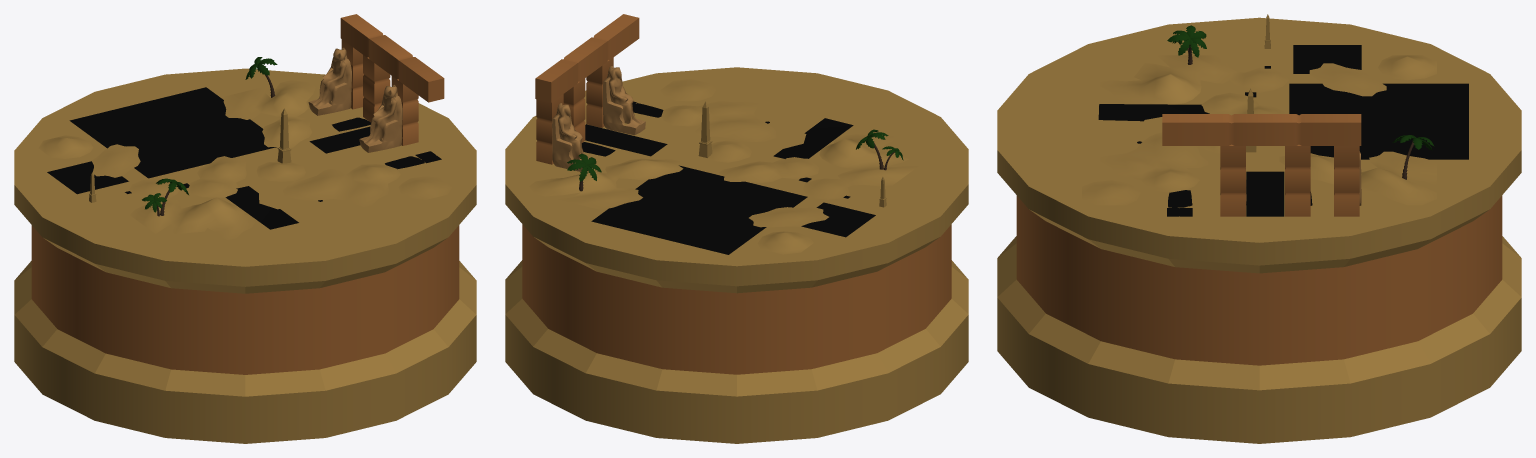
File: Egypt_snowball=base=.fbx
3 renders of one model, left to right at view 1: azimuth 30°, elevation 25°; view 2: azimuth 150°, elevation 25°; view 3: azimuth 270°, elevation 25°, orthographic. The views are drawn at different scales.
Parts seen in each view (by area): view 1: base, big_pyramid_A, sphinx_A, small_pyramid_A, stair_A, statue_A; view 2: base, big_pyramid_A, sphinx_A, small_pyramid_A, stair_A, statue_A; view 3: base, big_pyramid_A, stair_A, small_pyramid_A, sphinx_A.
Boxes of the visible parts, bbox=[...] form: base: bbox=[14, 14, 476, 443]; big_pyramid_A: bbox=[69, 87, 276, 178]; sphinx_A: bbox=[225, 186, 298, 229]; small_pyramid_A: bbox=[47, 161, 128, 194]; stair_A: bbox=[309, 126, 370, 153]; statue_A: bbox=[332, 117, 424, 169]; base: bbox=[505, 14, 968, 443]; big_pyramid_A: bbox=[591, 165, 807, 254]; sphinx_A: bbox=[773, 118, 853, 158]; small_pyramid_A: bbox=[801, 202, 875, 237]; stair_A: bbox=[585, 124, 667, 156]; statue_A: bbox=[582, 103, 663, 156]; base: bbox=[997, 14, 1521, 443]; big_pyramid_A: bbox=[1289, 83, 1468, 159]; stair_A: bbox=[1246, 171, 1284, 216]; small_pyramid_A: bbox=[1293, 45, 1361, 73]; sphinx_A: bbox=[1098, 104, 1209, 121].
Bounding box in the file's own units: 120 × 73.38 × 118.
